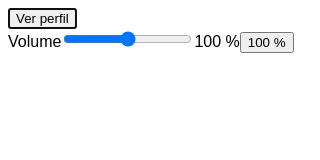
Test: ContextMenu › uma entrada com barra (o volume de uma pessoa na chamada) › o som muda enquanto se arrasta, e o menu não fecha
Press the mouse on the slider named "Volume de Ana" at [128, 39], box x1=63 y1=31 x2=192 y2=47
Set the slider named "Volume de Ana" to "135" at [148, 39], box x1=63 y1=31 x2=192 y2=47
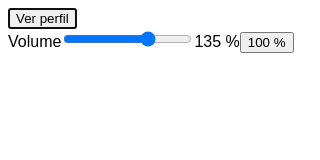
Set the slider named "Volume de Ana" to "160" at [162, 39], box x1=63 y1=31 x2=192 y2=47
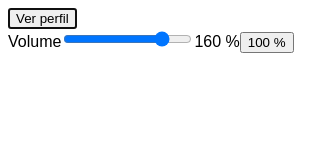
Expected: the text "160 %" is shown, x1=194 y1=33 x2=240 y2=50
